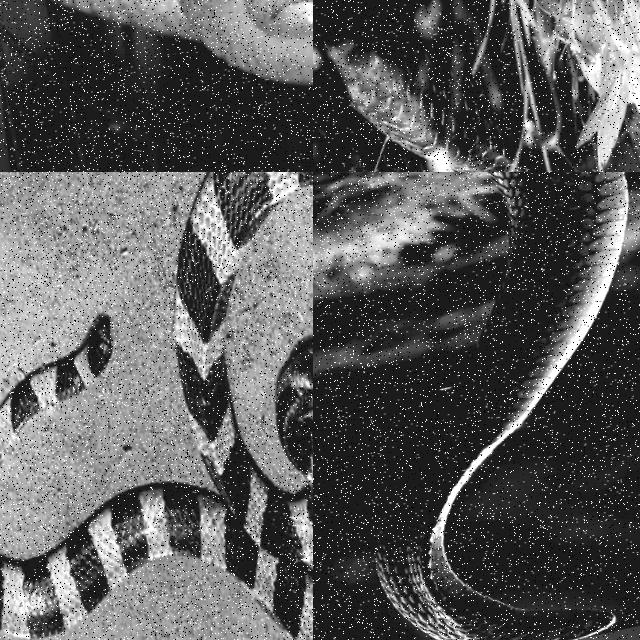Bungarus fasciatus: (0, 172, 312, 639)
Ophiophagus hannah: (375, 172, 626, 639), (313, 0, 522, 171)
Trimeresurus macrops: (55, 0, 312, 84)
